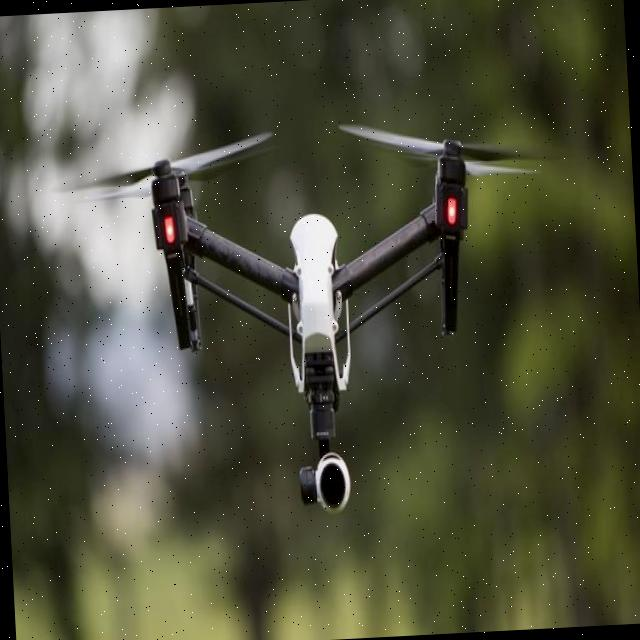drone: (83, 91, 556, 386)
